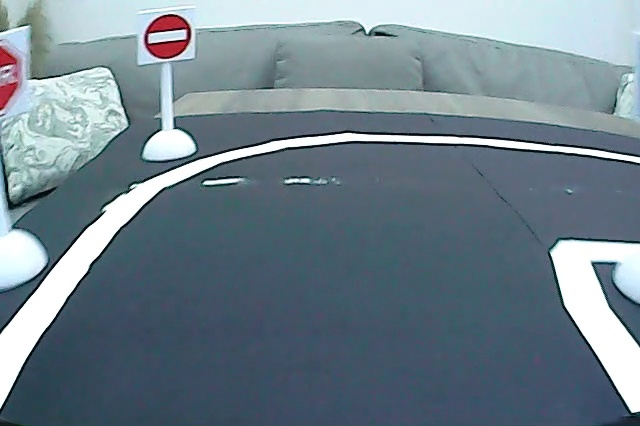do not enter: (142, 12, 195, 62)
